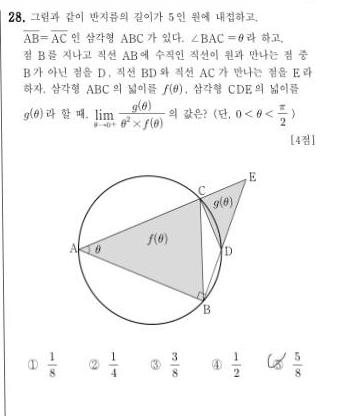choice: (267, 352, 285, 372)
not-choice: (86, 356, 100, 372), (25, 357, 39, 372), (209, 356, 223, 371), (148, 357, 161, 371)
